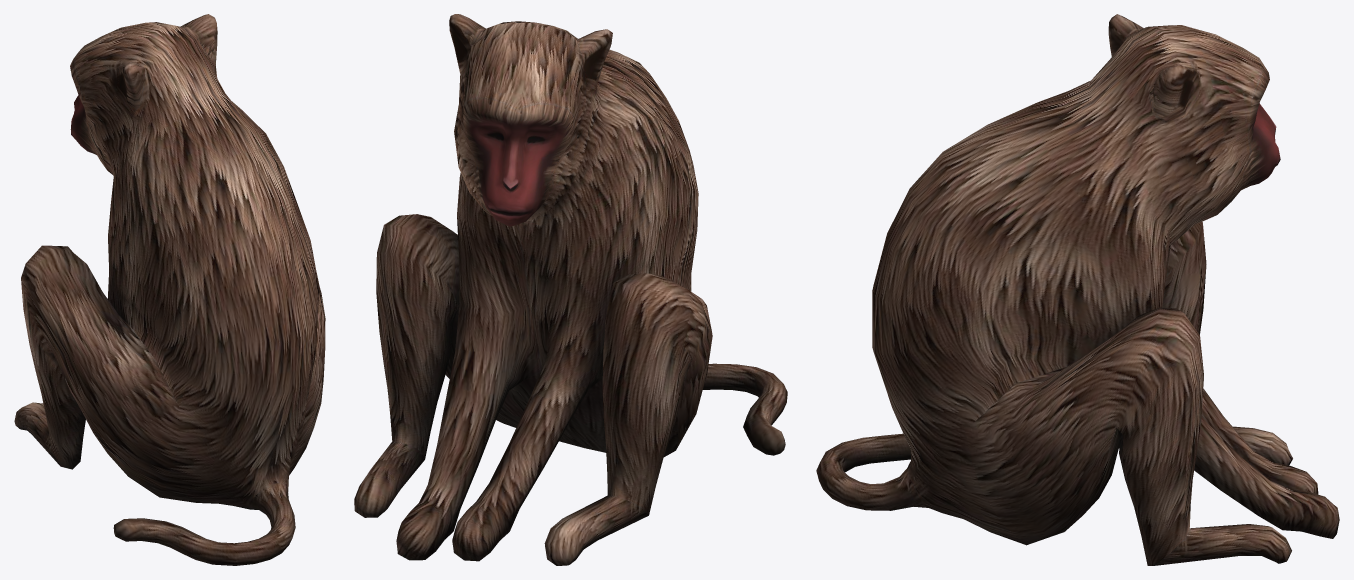
File: monkey.glb
The picture shows the model from 3 angles, left to right: view 1: azimuth 30°, elevation 25°; view 2: azimuth 150°, elevation 25°; view 3: azimuth 270°, elevation 25°; orthographic projection. The views are drawn at different scales.
Parts seen in each view (by area): view 1: monkey2; view 2: monkey2; view 3: monkey2.
Part boxes in pixels (bbox=[...]): monkey2: bbox=[14, 14, 325, 565]; monkey2: bbox=[354, 14, 787, 565]; monkey2: bbox=[816, 14, 1339, 565].
Size of the model in its own units: 1.13 by 1.73 by 1.69.
1 material, 1 textured.
